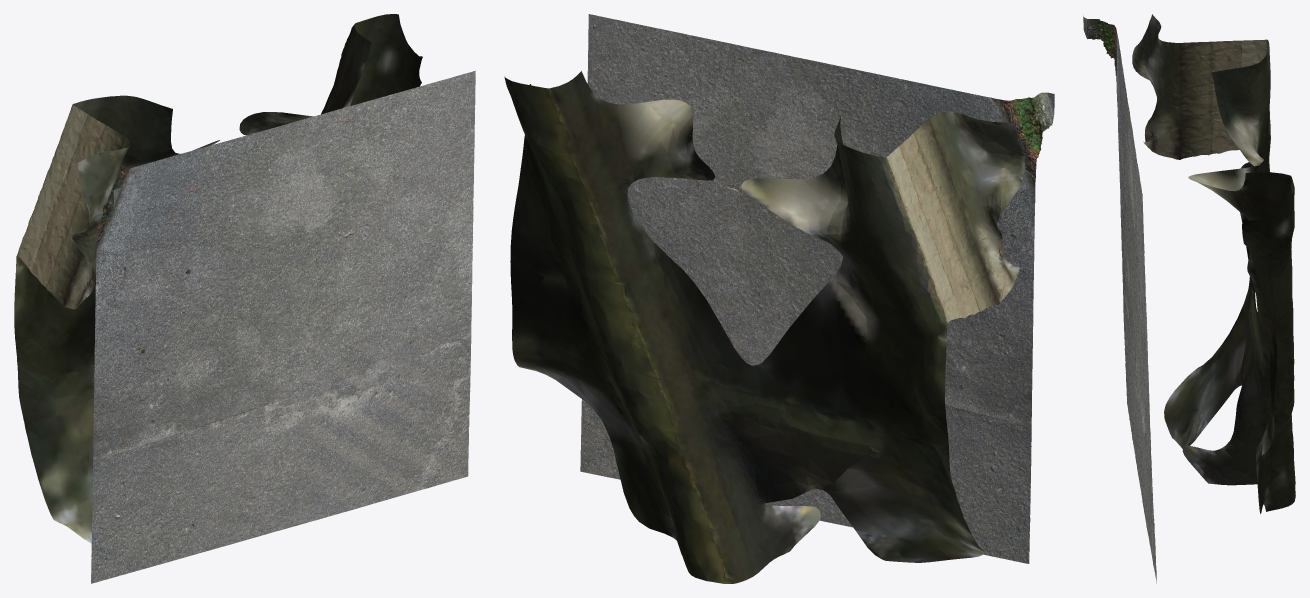
The model's file is Tile_+007_+012.fbx.
3 renders of one model, left to right at view 1: azimuth 30°, elevation 25°; view 2: azimuth 150°, elevation 25°; view 3: azimuth 270°, elevation 25°, orthographic. The views are drawn at different scales.
Visible parts, largest first — view 1: Tile_+007_+012_LOD0; view 2: Tile_+007_+012_LOD0; view 3: Tile_+007_+012_LOD0.
Boxes of the visible parts, x1,y1,x2,y2 form: Tile_+007_+012_LOD0: (14, 14, 475, 583); Tile_+007_+012_LOD0: (504, 14, 1054, 583); Tile_+007_+012_LOD0: (1083, 14, 1295, 583).
Size of what is drawn, in the model's own units: 303 by 303 by 150.
